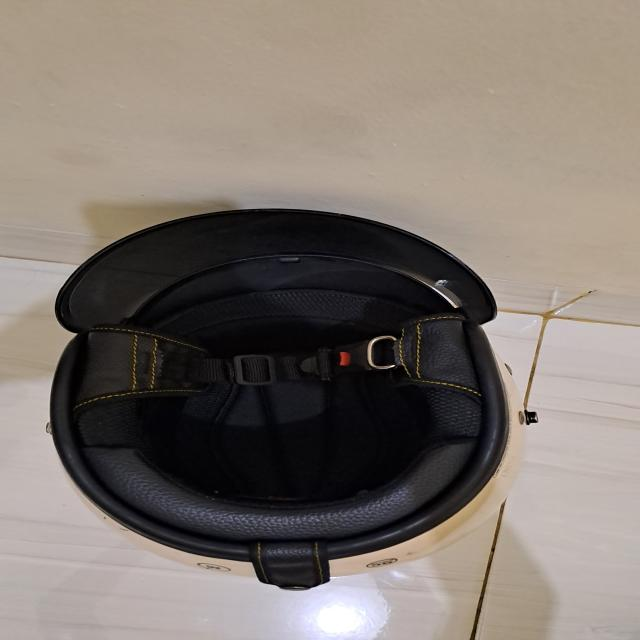Helm: (35, 199, 539, 607)
